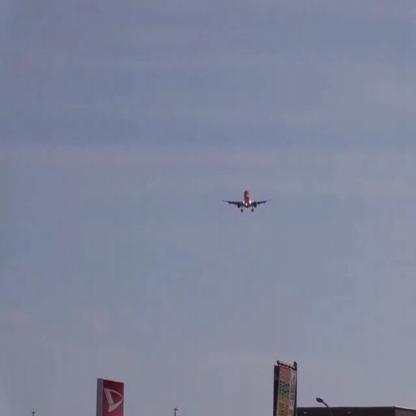CIV_Plane: (221, 190, 271, 214)
